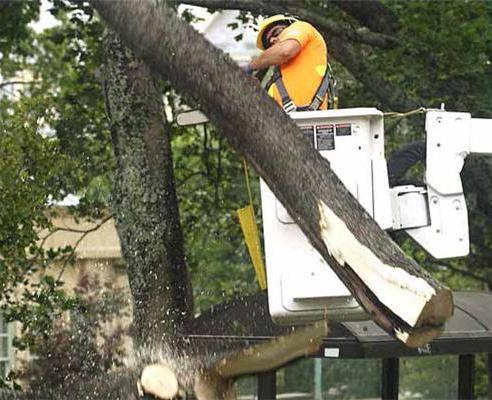person: (237, 13, 332, 116)
